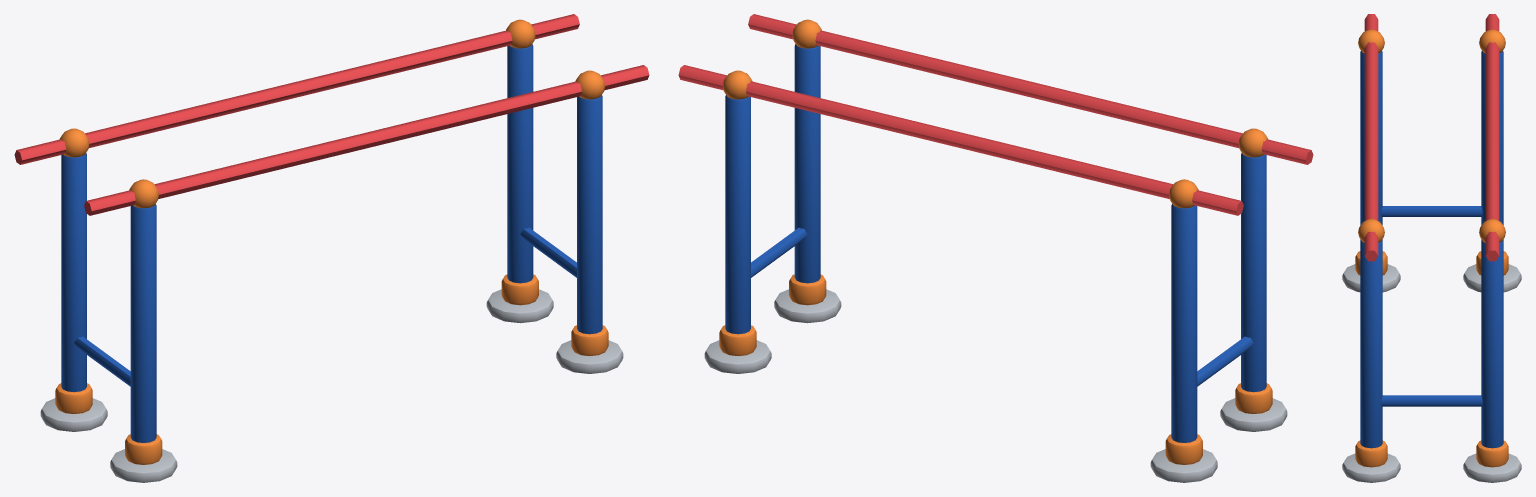
The model's file is academia_paralelas.glb.
3 views of the same model, side by side, from view 1: azimuth 30°, elevation 25°; view 2: azimuth 150°, elevation 25°; view 3: azimuth 270°, elevation 25° (orthographic). The views are drawn at different scales.
Visible parts, largest first — view 1: academia_paralelas; view 2: academia_paralelas; view 3: academia_paralelas.
Part boxes in pixels (<box>): academia_paralelas: <box>14,14,649,482</box>; academia_paralelas: <box>678,14,1313,482</box>; academia_paralelas: <box>1342,14,1521,482</box>.
Size of the model in its own units: 2.5 by 1.24 by 0.8.
1 material, 1 textured.
